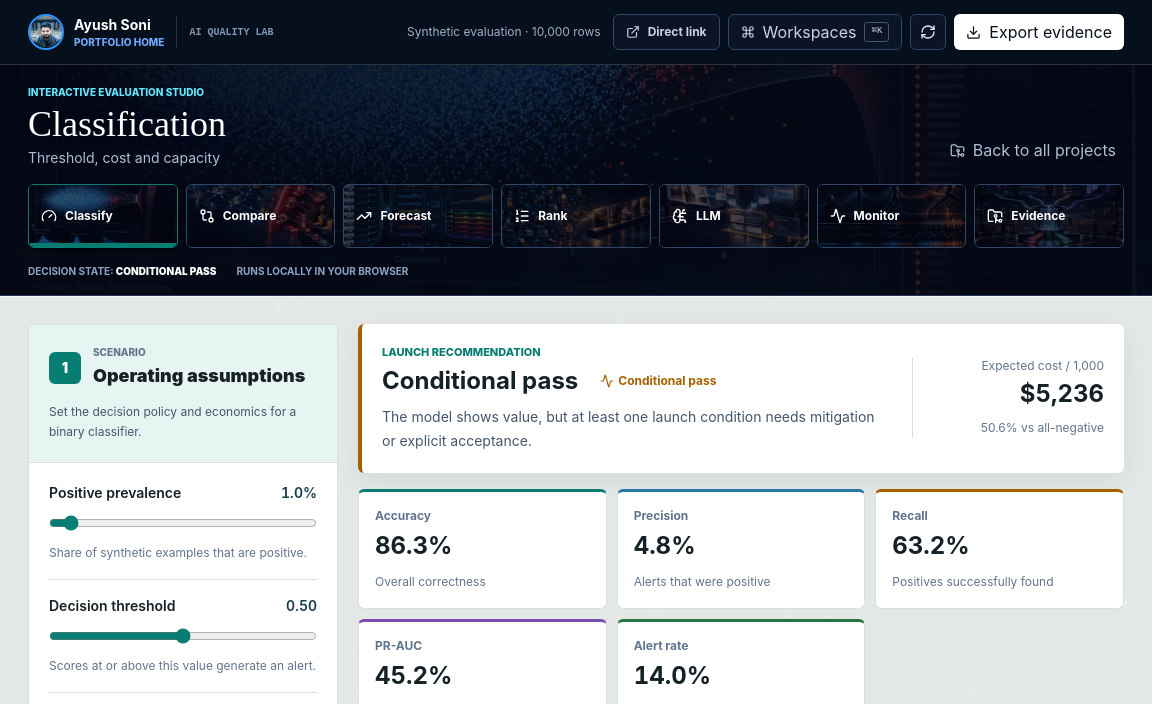
it: workspace navigation › activates Regression & forecasting
The image size is (1152, 704).
Click the tab with aria-label "Regression & forecasting": (418,216) left=343, top=184, right=493, bottom=248
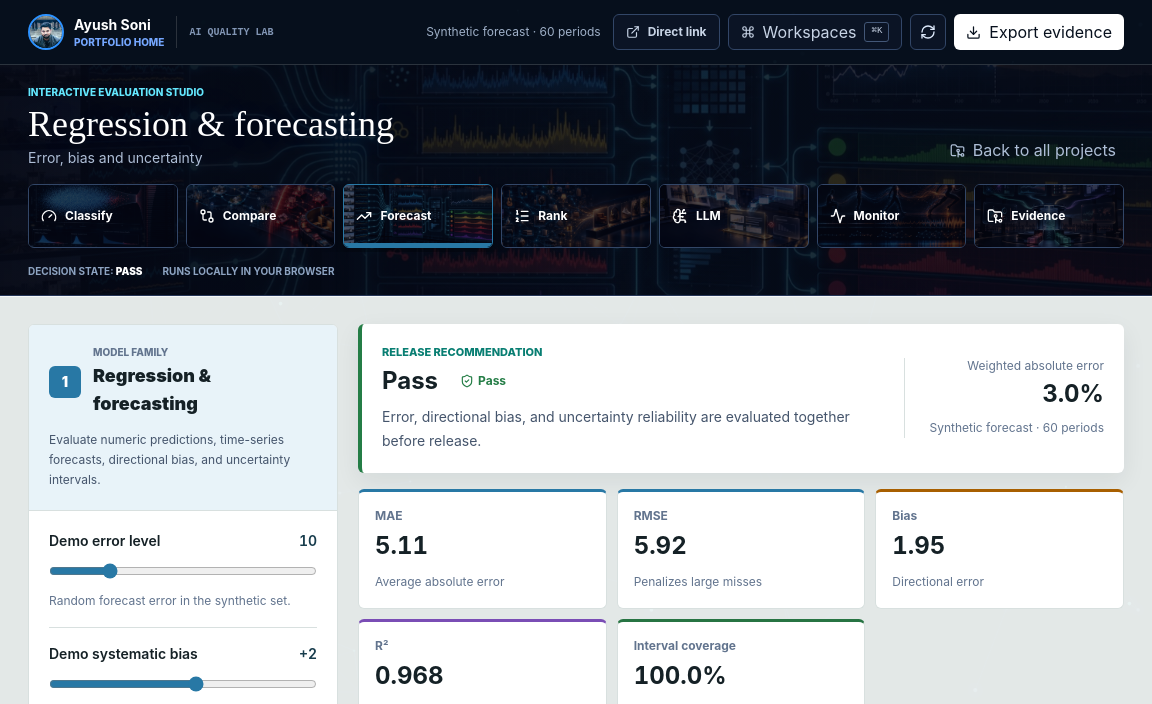
Check: the heading "Regression & forecasting" below "Interactive evaluation studio" is shown, box left=28, top=104, right=394, bottom=144
